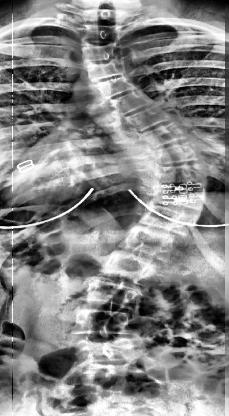Vertebrae: (70, 306, 138, 338), (86, 275, 140, 309), (124, 226, 172, 264), (108, 250, 154, 288), (150, 182, 209, 208), (154, 159, 212, 185), (151, 139, 208, 165), (124, 102, 172, 132), (147, 206, 190, 238), (146, 121, 186, 149), (110, 91, 156, 115), (98, 75, 136, 99), (80, 23, 120, 45), (85, 59, 123, 81), (80, 42, 120, 62)
